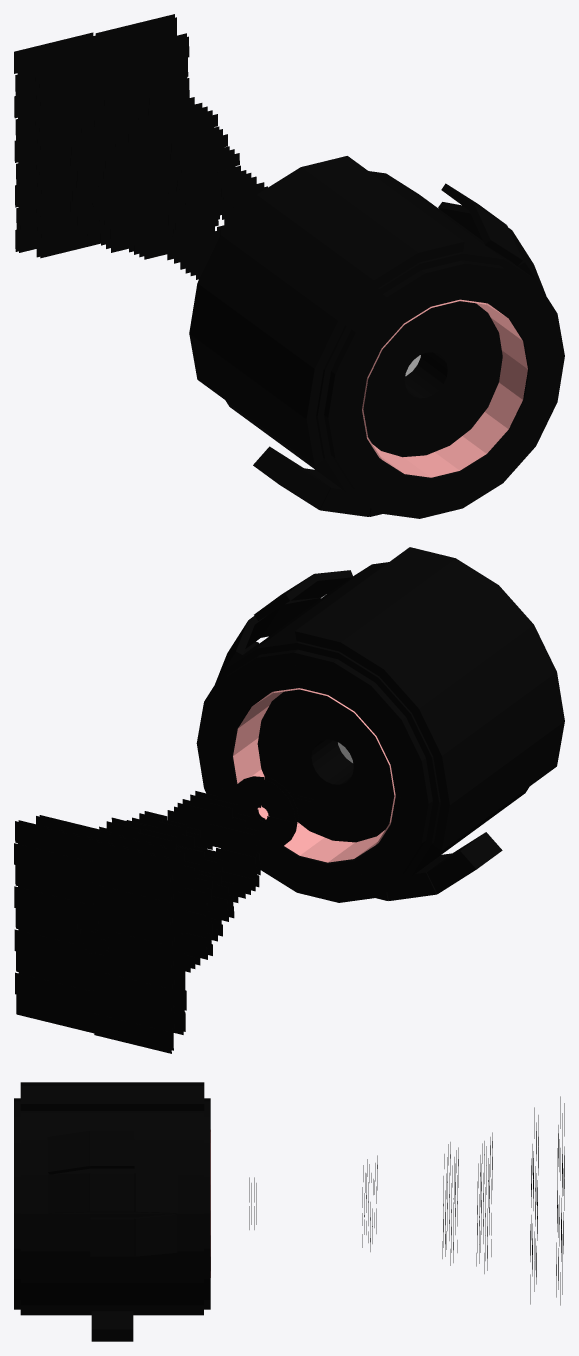
The model's file is detector.dae.
3 views of the same model, one above another, from view 1: azimuth 30°, elevation 25°; view 2: azimuth 150°, elevation 25°; view 3: azimuth 270°, elevation 25° (orthographic). The views are drawn at different scales.
Visible parts, largest first — view 1: EMCAL, MAIN_GentleGeometry_TRD_TOF, MAIN_GentleGeometry_TPC_TPC_M_1_TPC_Drift_1_geom, MAIN_GentleGeometry_PHOS, MAIN_GentleGeometry_HMPID, MUON_ALIC_1_YOUT2_1_SC11_1_S0L8_1_SC1A_176_SB1A_1, MUON_ALIC_1_YOUT2_1_SC11_1_S0R9_1_SC1A_238_SB1A_1, MUON_ALIC_1_YOUT2_1_SC11_1_S0L9_1_SC1A_240_SB1A_1, MUON_ALIC_1_YOUT2_1_SC13_1_S2L9_1_SC3A_240_SB3A_1, MUON_ALIC_1_YOUT2_1_SC13_1_S2R9_1_SC3A_238_SB3A_1, MUON_ALIC_1_YOUT2_1_SC11_1_S0R8_1_SC1A_174_SB1A_1, MUON_ALIC_1_YOUT2_1_SC11_1_S0L7_1_SC1A_112_SB1A_1 (+5 smaller); view 2: EMCAL, MAIN_GentleGeometry_TRD_TOF, MAIN_GentleGeometry_TPC_TPC_M_1_TPC_Drift_1_geom, MAIN_GentleGeometry_HMPID, MAIN_GentleGeometry_PHOS, MUON_ALIC_1_YOUT2_1_SC14_1_S3L3_1_SC4A_111_SB4A_1, MUON_ALIC_1_YOUT2_1_SC14_1_S3L9_1_SC4A_240_SB4A_1, MUON_ALIC_1_YOUT2_1_SC14_1_S3L1_1_SC4A_239_SB4A_1, MUON_ALIC_1_YOUT2_1_SC14_1_S3R2_1_SC4A_173_SB4A_1, MUON_ALIC_1_YOUT2_1_SC14_1_S3R9_1_SC4A_238_SB4A_1, MUON_ALIC_1_YOUT2_1_SC14_1_S3L7_1_SC4A_112_SB4A_1, MUON_ALIC_1_YOUT2_1_SC14_1_S3R8_1_SC4A_174_SB4A_1 (+16 smaller); view 3: MAIN_GentleGeometry_TRD_TOF, MAIN_GentleGeometry_HMPID, EMCAL, MAIN_GentleGeometry_PHOS.
Part boxes in pixels (x1,y1,x2,y2): EMCAL: (189,156,464,465); MAIN_GentleGeometry_TRD_TOF: (225,171,564,518); MAIN_GentleGeometry_TPC_TPC_M_1_TPC_Drift_1_geom: (363,301,502,457); MAIN_GentleGeometry_PHOS: (253,446,381,516); MAIN_GentleGeometry_HMPID: (438,183,545,294); MUON_ALIC_1_YOUT2_1_SC11_1_S0L8_1_SC1A_176_SB1A_1: (40,75,114,113); MUON_ALIC_1_YOUT2_1_SC11_1_S0R9_1_SC1A_238_SB1A_1: (115,36,189,74); MUON_ALIC_1_YOUT2_1_SC11_1_S0L9_1_SC1A_240_SB1A_1: (39,53,112,91); MUON_ALIC_1_YOUT2_1_SC13_1_S2L9_1_SC3A_240_SB3A_1: (17,35,96,76); MUON_ALIC_1_YOUT2_1_SC13_1_S2R9_1_SC3A_238_SB3A_1: (98,17,176,53); MUON_ALIC_1_YOUT2_1_SC11_1_S0R8_1_SC1A_174_SB1A_1: (114,57,188,94); MUON_ALIC_1_YOUT2_1_SC11_1_S0L7_1_SC1A_112_SB1A_1: (39,96,113,133); EMCAL: (295,547,564,850); MAIN_GentleGeometry_TRD_TOF: (196,562,528,902); MAIN_GentleGeometry_TPC_TPC_M_1_TPC_Drift_1_geom: (257,689,394,842); MAIN_GentleGeometry_HMPID: (215,570,353,683); MAIN_GentleGeometry_PHOS: (376,832,502,900); MUON_ALIC_1_YOUT2_1_SC14_1_S3L3_1_SC4A_111_SB4A_1: (93,970,171,1010); MUON_ALIC_1_YOUT2_1_SC14_1_S3L9_1_SC4A_240_SB4A_1: (92,841,170,881); MUON_ALIC_1_YOUT2_1_SC14_1_S3L1_1_SC4A_239_SB4A_1: (94,1013,171,1053); MUON_ALIC_1_YOUT2_1_SC14_1_S3R2_1_SC4A_173_SB4A_1: (15,972,92,1012); MUON_ALIC_1_YOUT2_1_SC14_1_S3R9_1_SC4A_238_SB4A_1: (15,821,92,861); MUON_ALIC_1_YOUT2_1_SC14_1_S3L7_1_SC4A_112_SB4A_1: (93,884,170,924); MUON_ALIC_1_YOUT2_1_SC14_1_S3R8_1_SC4A_174_SB4A_1: (14,843,91,883); MAIN_GentleGeometry_TRD_TOF: (14,1098,210,1315); MAIN_GentleGeometry_HMPID: (47,1131,177,1256); EMCAL: (20,1082,204,1110); MAIN_GentleGeometry_PHOS: (91,1311,133,1341).
Bounding box in the file's own units: 9.73 × 21.05 × 9.79.
